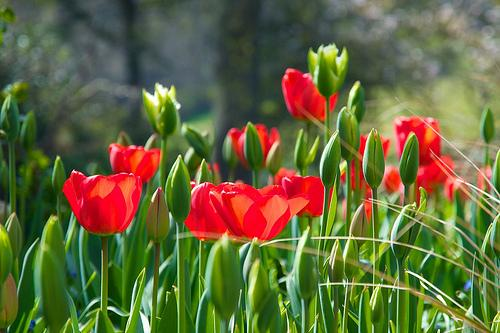tulip: (210, 179, 307, 239), (63, 169, 139, 234), (282, 66, 335, 118), (395, 113, 442, 161), (109, 143, 163, 180)
